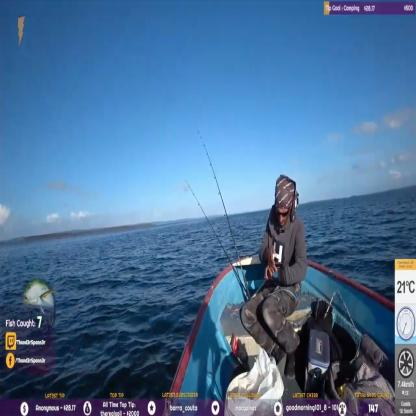streamer: (239, 174, 308, 380)
